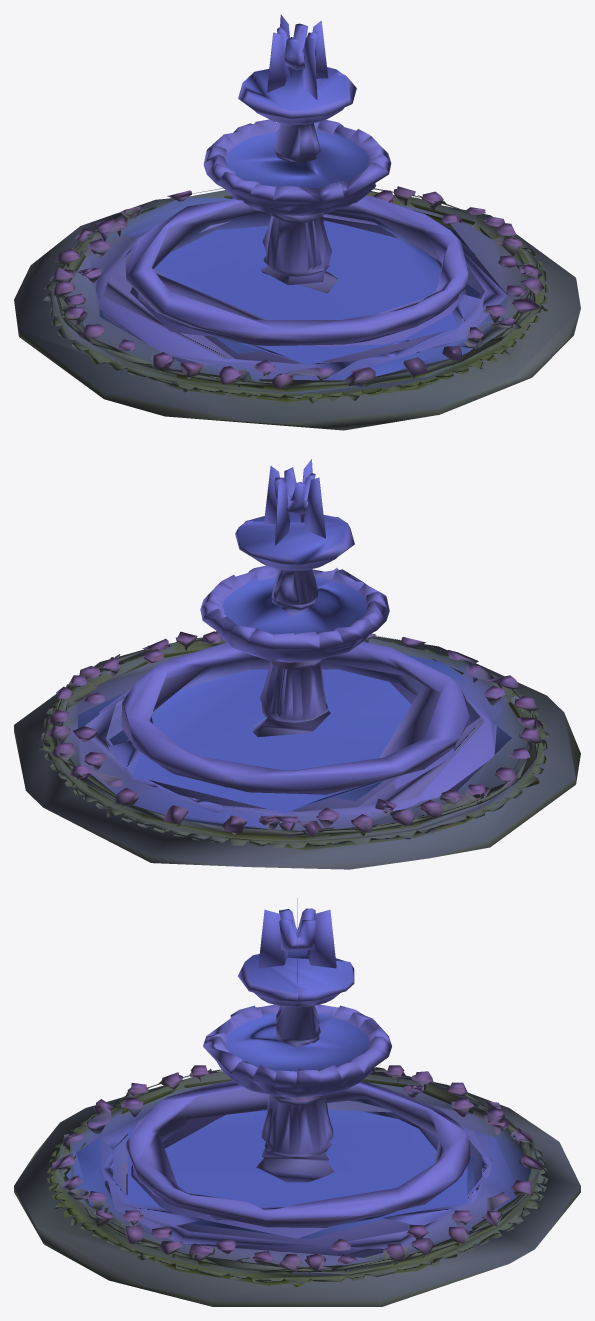
File: model.progressive.glb
3 renders of one model, top to bottom at view 1: azimuth 30°, elevation 25°; view 2: azimuth 150°, elevation 25°; view 3: azimuth 270°, elevation 25°, orthographic.
Parts seen in each view (by area): view 1: material; view 2: material; view 3: material.
Part boxes in pixels (bbox=[...]): material: bbox=[14, 14, 580, 430]; material: bbox=[14, 459, 580, 869]; material: bbox=[14, 898, 580, 1306].
Bounding box in the file's own units: 1.82 × 1.05 × 1.9.
1 material, 1 textured.
